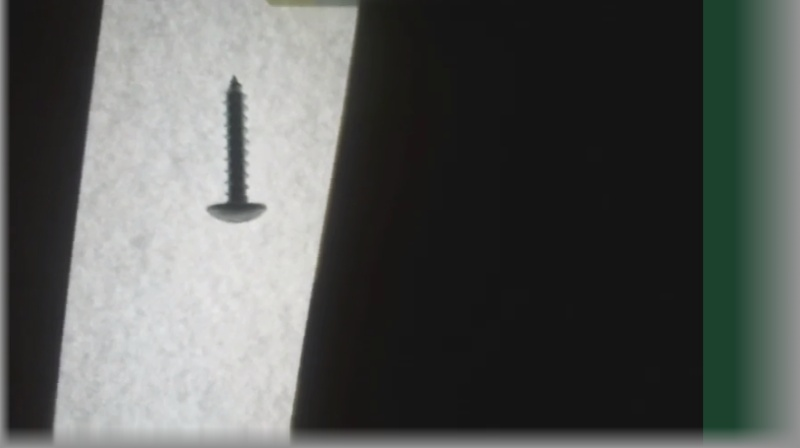S003: (202, 72, 271, 226)
